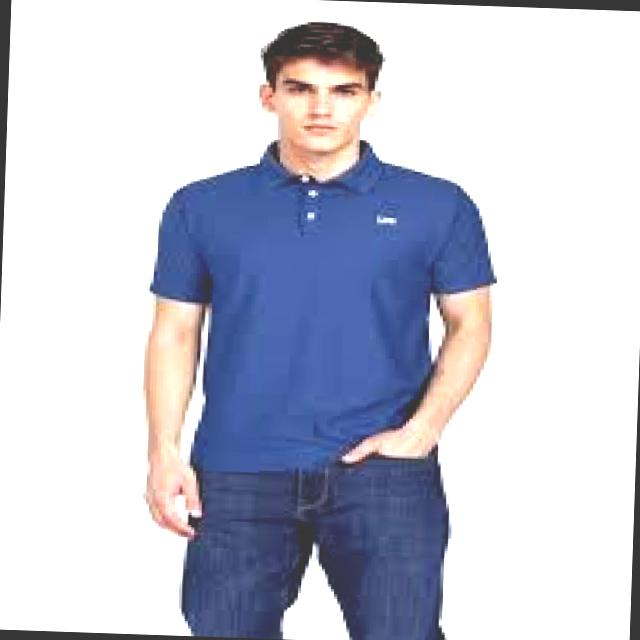face: (259, 59, 381, 154)
lower-wear: (182, 448, 449, 639)
top-wear: (150, 140, 496, 472)
